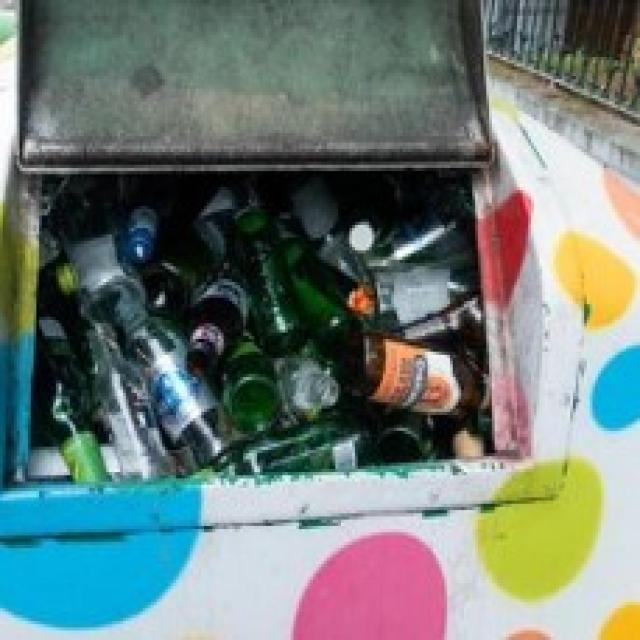electronic: (111, 274, 236, 475), (226, 200, 333, 428), (330, 328, 512, 429), (82, 314, 169, 489)
